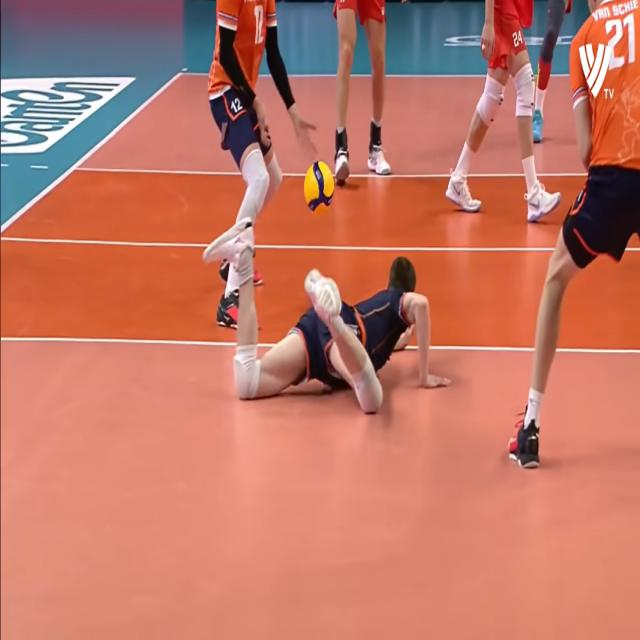player: (202, 238, 452, 410)
